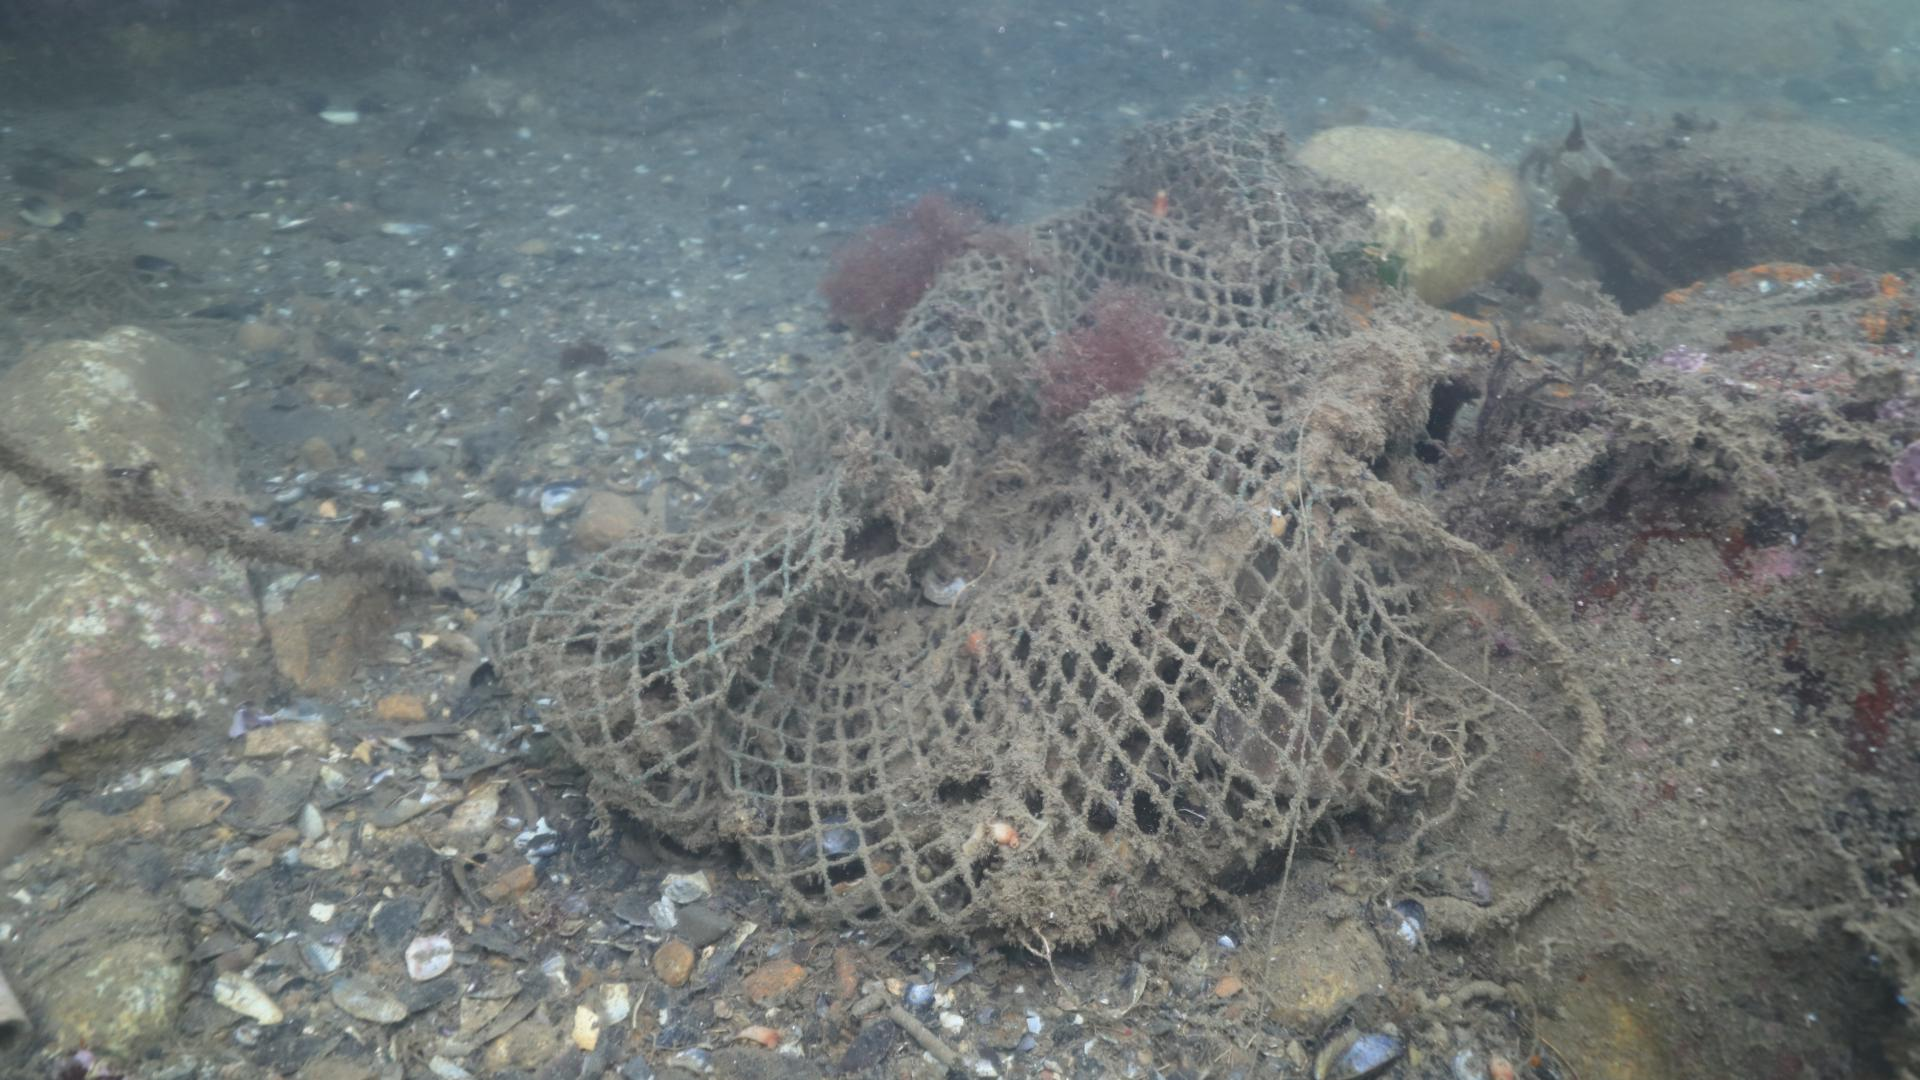fish net: (480, 94, 1431, 940)
